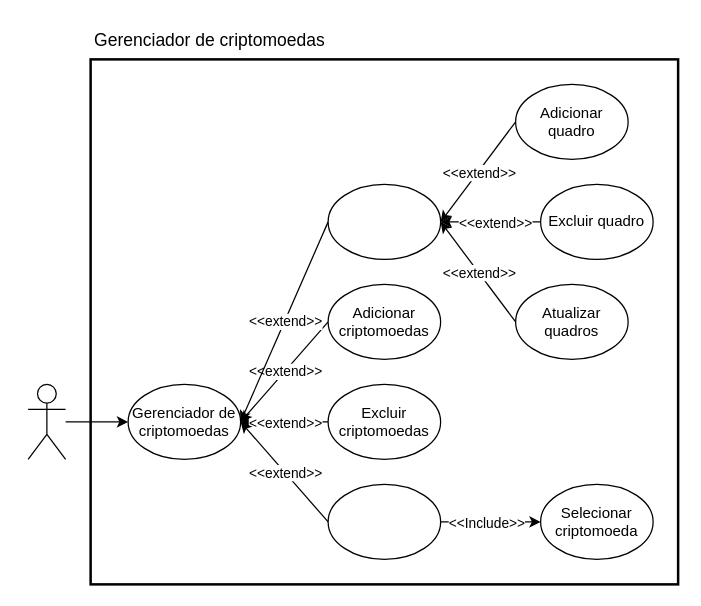
This 701x606 diagram has some shape labels left out. The centre of each missing label's shape, as x and y in pixels:
"Comparar criptomoedas" belongs at [384,521].
"Gerenciamento de quadros" belongs at [384,221].
"Usuário" belongs at [46,421].
